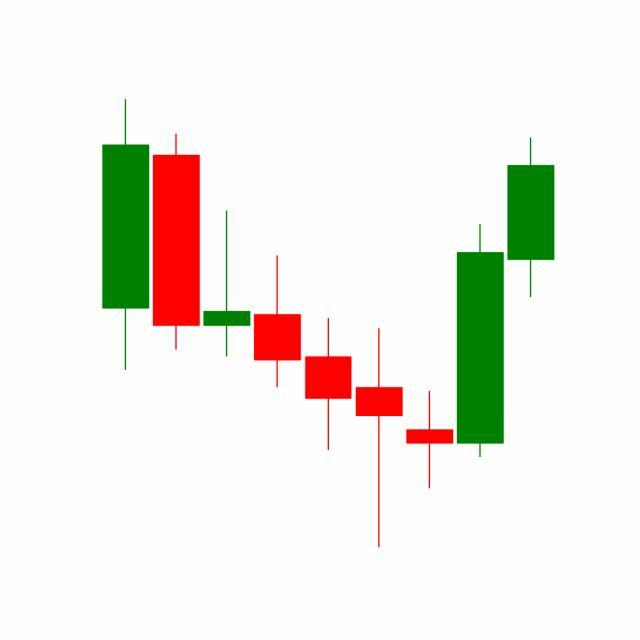Hikkake Pattern: (252, 220, 506, 548)
